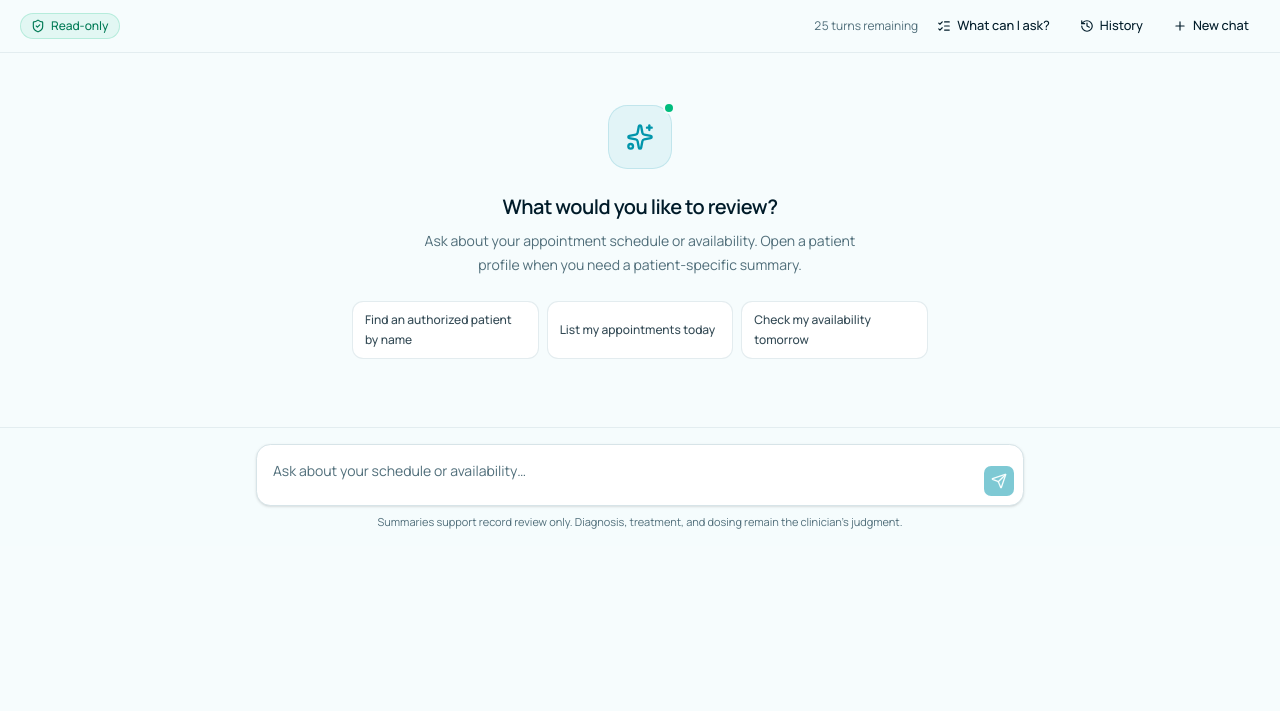
Test: P7-01 · the chat's own call site passes the write surface through › says nothing about writes for a role with no authorized actions
Click the button "What can I ask?".
click(994, 26)  # box 926,12 -> 1061,40
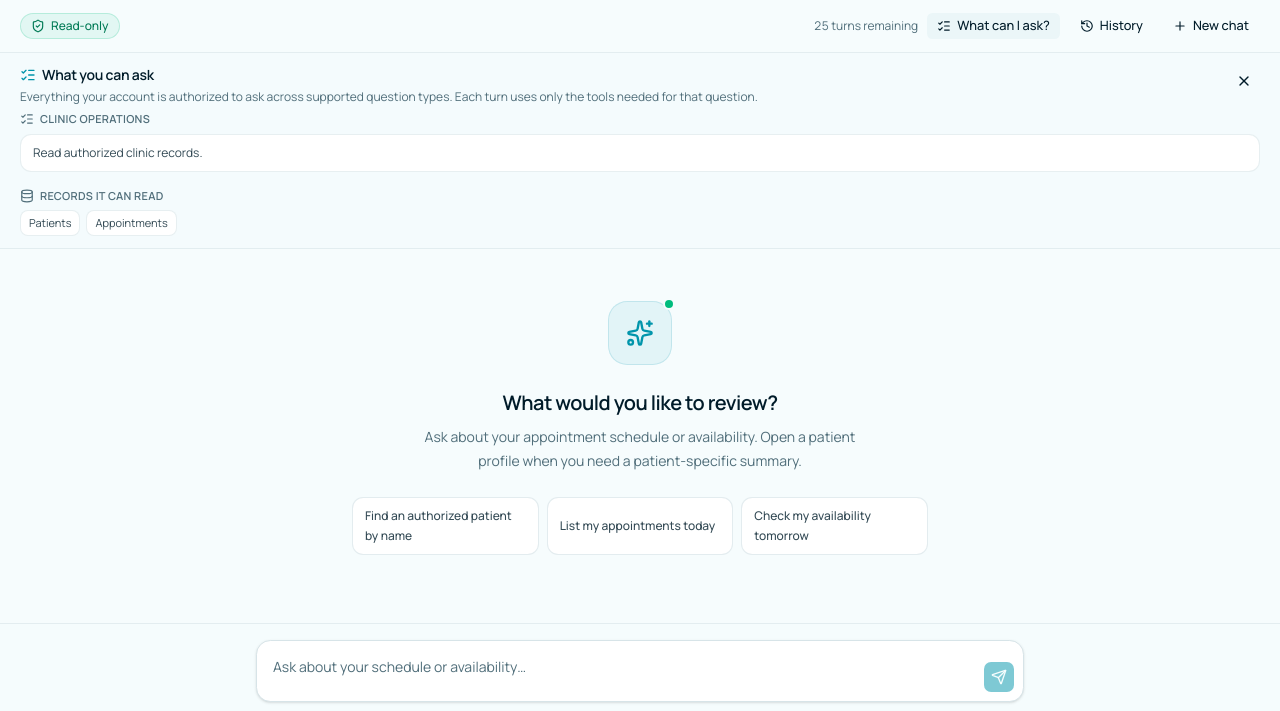
Now the heading "Records it can read" is shown, box 20,188 -> 164,203
